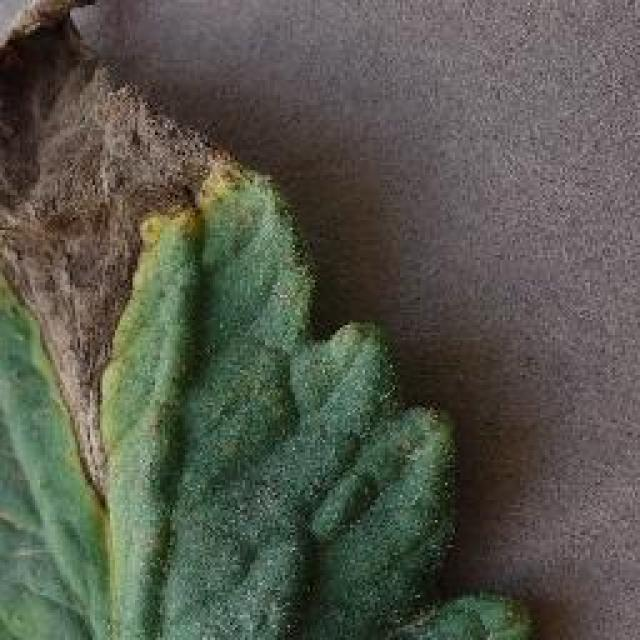Tomato Early blight leaf: (0, 16, 292, 491)
